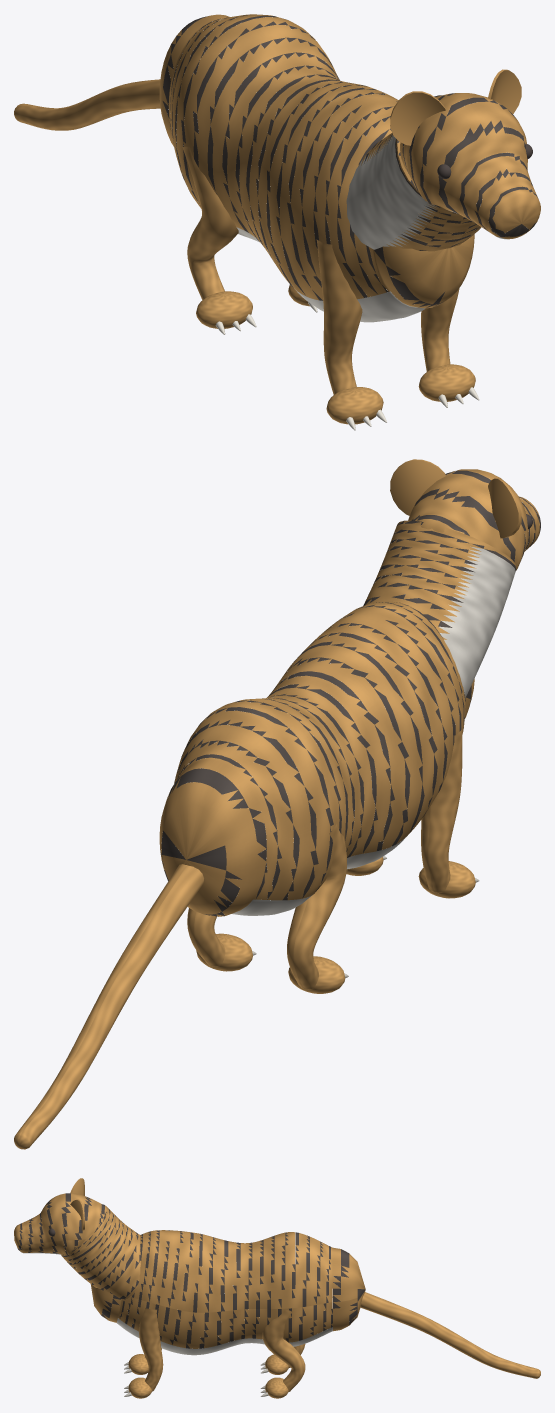
The model's file is other-bengal-tiger.glb.
The picture shows the model from 3 angles, top to bottom: view 1: azimuth 30°, elevation 25°; view 2: azimuth 150°, elevation 25°; view 3: azimuth 270°, elevation 25°; orthographic projection. The views are drawn at different scales.
Visible parts, largest first — view 1: bengal-tiger; view 2: bengal-tiger; view 3: bengal-tiger.
Boxes of the visible parts, x1,y1,x2,y2 form: bengal-tiger: (14,14,540,430); bengal-tiger: (14,459,540,1149); bengal-tiger: (14,1178,540,1398).
Bounding box in the file's own units: 0.5787 × 1.38 × 3.4.
Materials: 6 (3 with a texture image).
